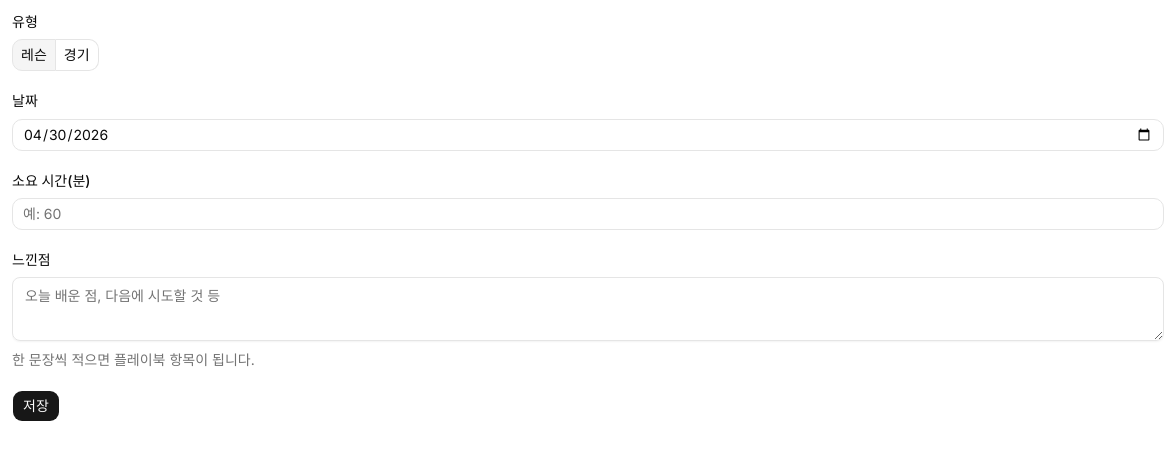
Test: RecordForm — 레슨 기록 › 소요 시간이 비어있으면 '소요 시간을 입력하세요' 메시지가 표시된다
What coordinates should you click on to do the following:
click the button "저장"
I would click on:
 (36, 406)
Its box is x1=12 y1=390 x2=60 y2=422.
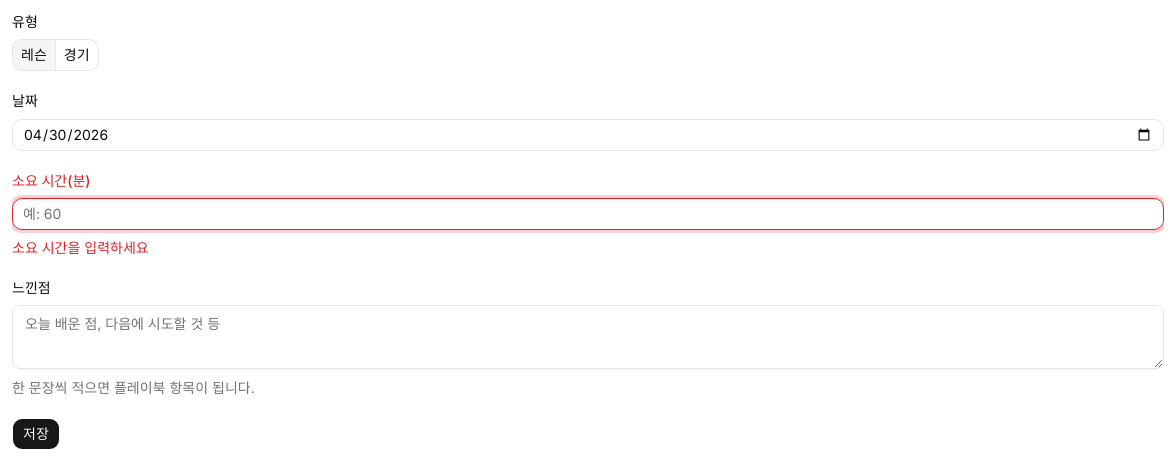
Check: the text "소요 시간을 입력하세요" is shown, box x1=12 y1=239 x2=149 y2=256
